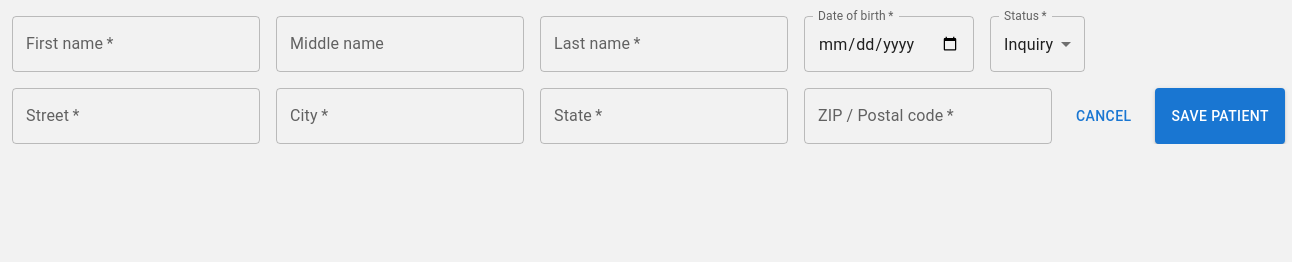
Test: PatientForm › allows changing status
// open the MUI Select (it renders a button-like element) then click the option
Step 1. Press the mouse on the dropdown named "Status" → (1029, 44), box [1004,34,1053,54]
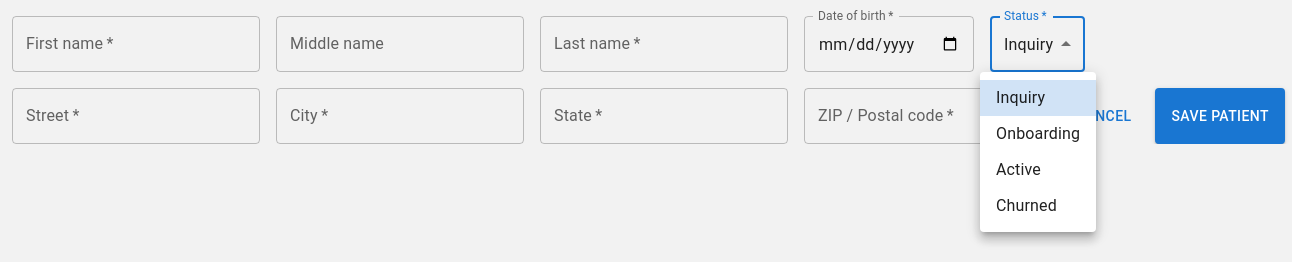
Step 2. Click the option "Active" → (1018, 170), box [996,160,1041,179]
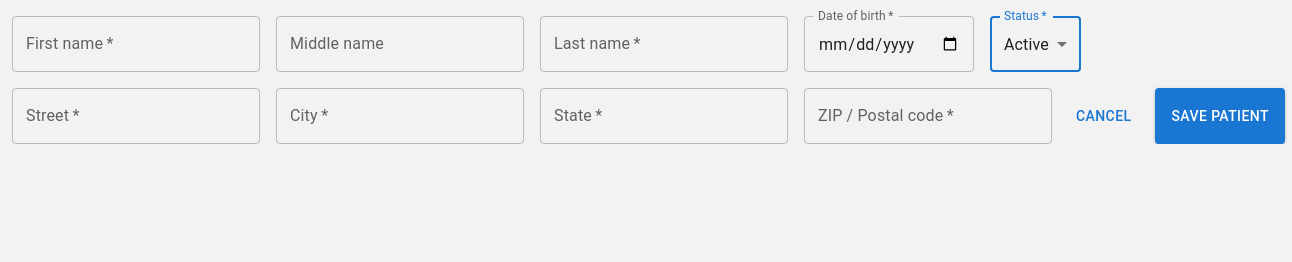
Now the dropdown named "Status" reads "Active", box [1004,34,1049,54]
